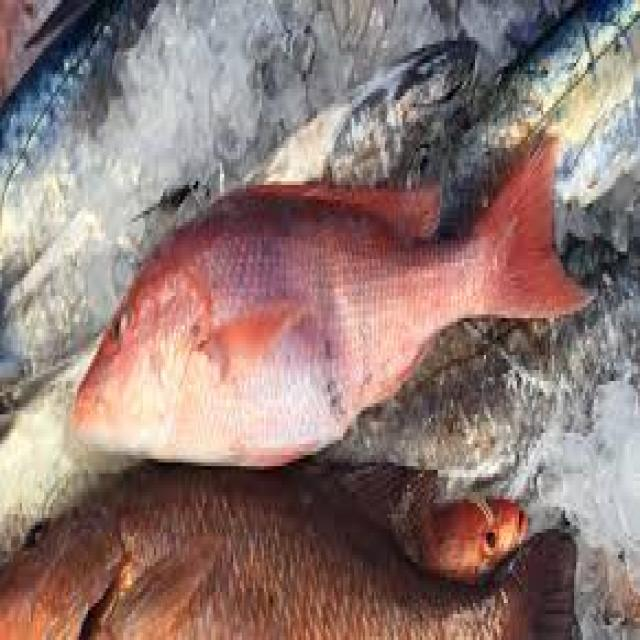northern-red-snapper: (71, 138, 591, 469)
